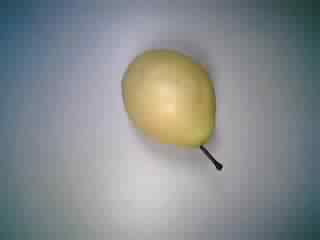pear: (106, 38, 232, 180)
